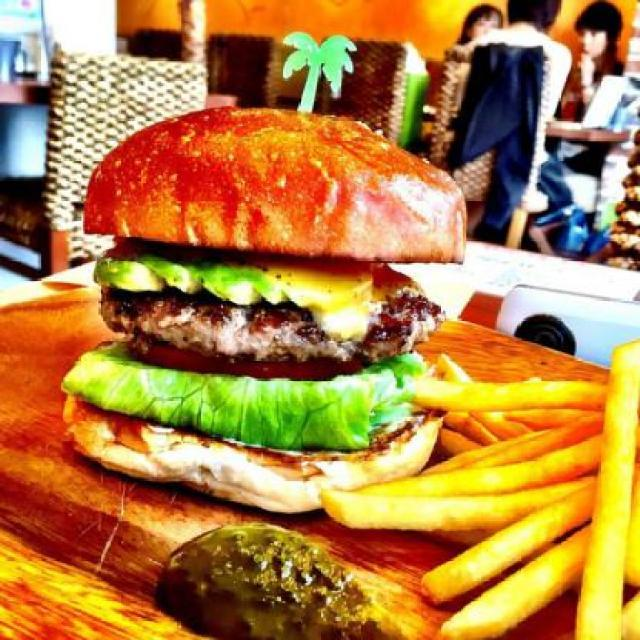Hamburger: (59, 110, 470, 512)
